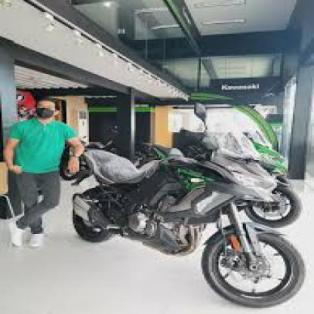Motocicleta: (91, 113, 308, 307)
